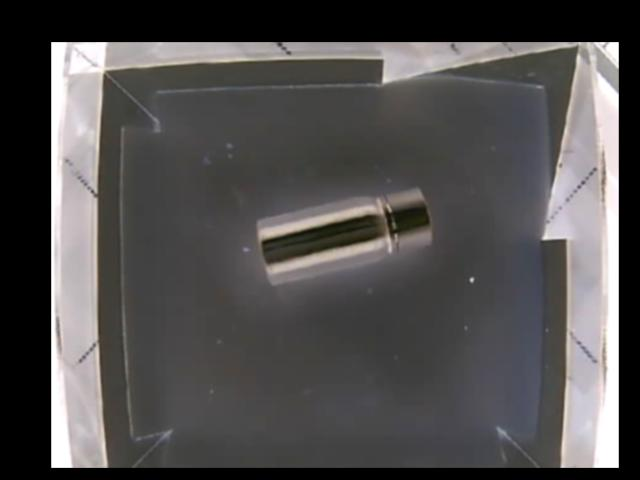Bottle: (256, 186, 432, 285)
